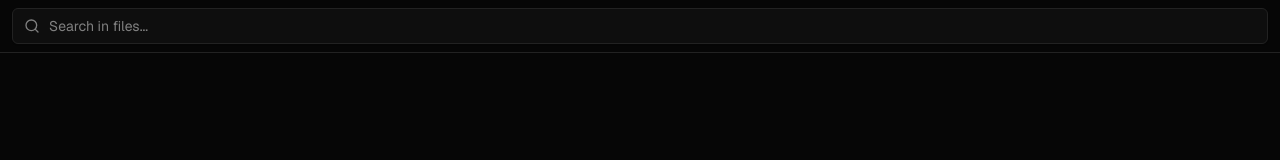
it: ContentSearch › Search input › should show clear button when query is not empty
Note: Type something
Type "test" into the field with placeholder "Search in files..." at coordinates (640, 26), box [12,8,1268,44]
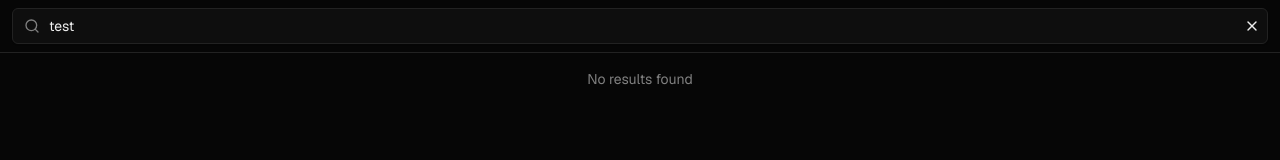
Now the button named "clear" is shown, box [1240,14,1264,38]
